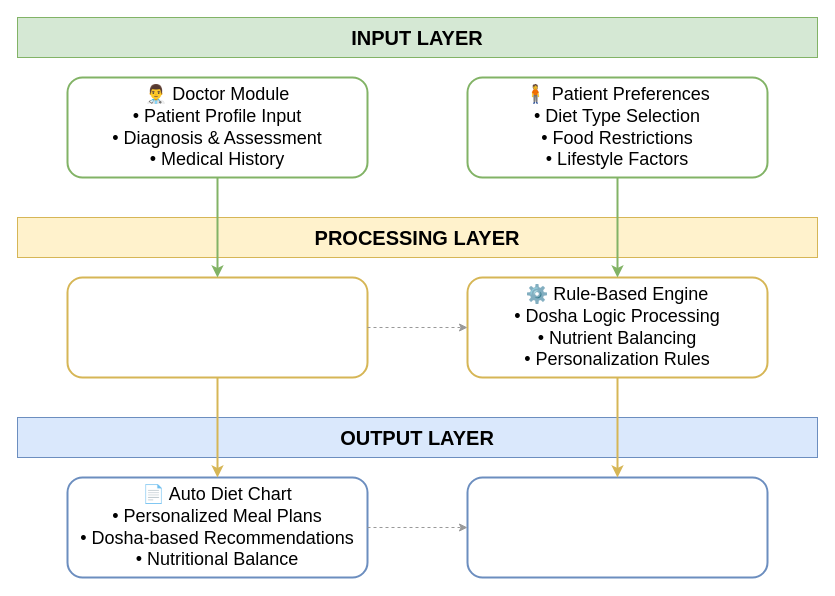
Some shapes in this 835 by 596 pixel diagram are drawn without their labels. The shapes that lost their labels are listed below. From the top down, each one's centre as x and y in pixels, then its label:
pixel 217 327: 🗂️ Food Database • Nutritional Data • Ayurvedic Properties • Food Categories
pixel 617 527: 📤 Export Options • PDF Generation • Mobile App View
